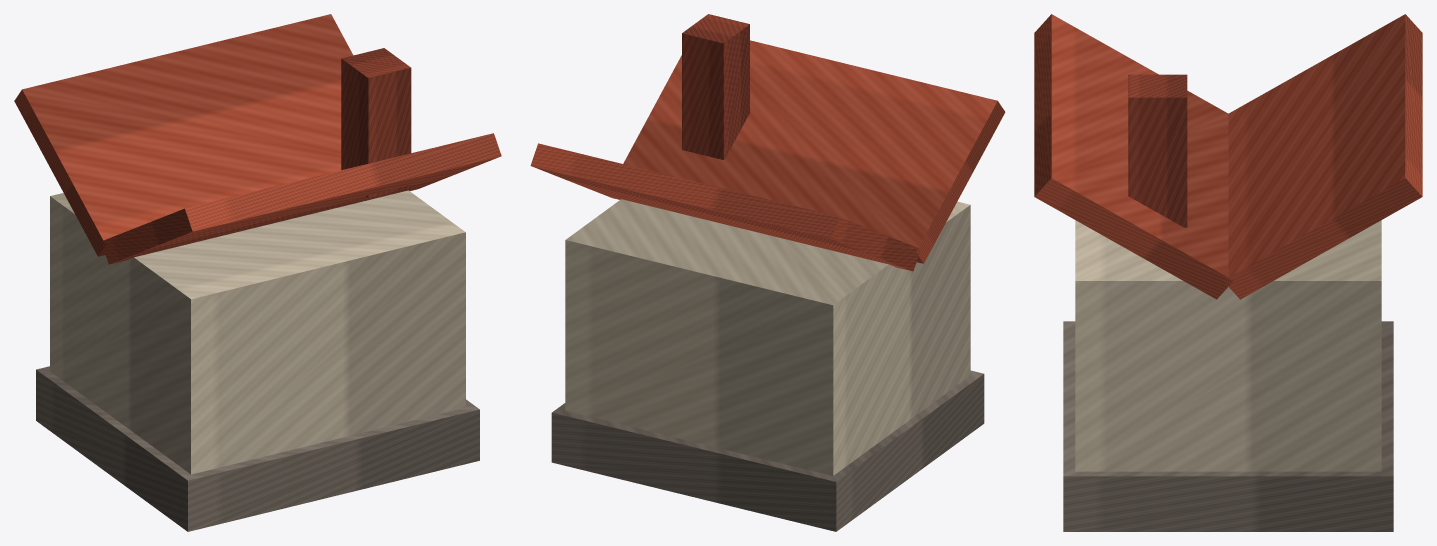
Rendered from house_a.glb.
The picture shows the model from 3 angles, left to right: view 1: azimuth 30°, elevation 25°; view 2: azimuth 150°, elevation 25°; view 3: azimuth 270°, elevation 25°; orthographic projection. The views are drawn at different scales.
Parts seen in each view (by area): view 1: Cube; view 2: Cube; view 3: Cube.
Boxes of the visible parts, x1,y1,x2,y2 form: Cube: (14, 14, 501, 531); Cube: (530, 14, 1005, 531); Cube: (1034, 14, 1422, 531).
Size of the model in its own units: 0.765 by 0.9 by 0.765.
Materials: 1 (1 with a texture image).
